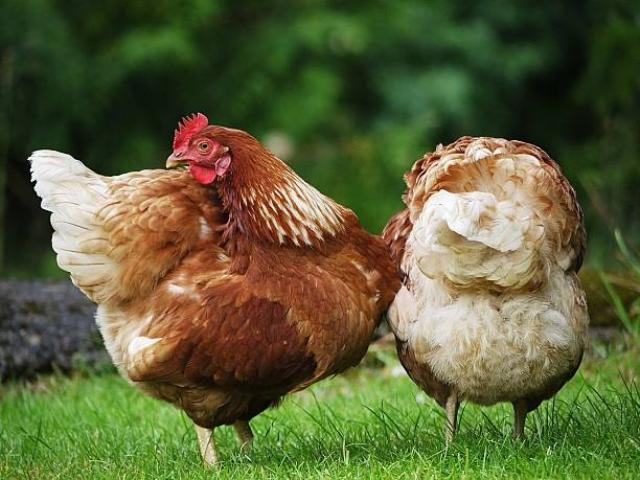Chicken: (29, 111, 405, 467), (383, 134, 589, 443)
